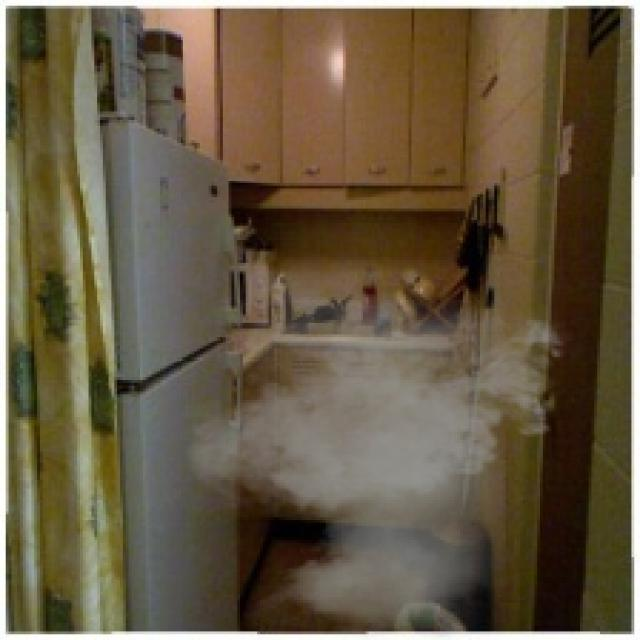Smoke: (171, 268, 580, 638)
